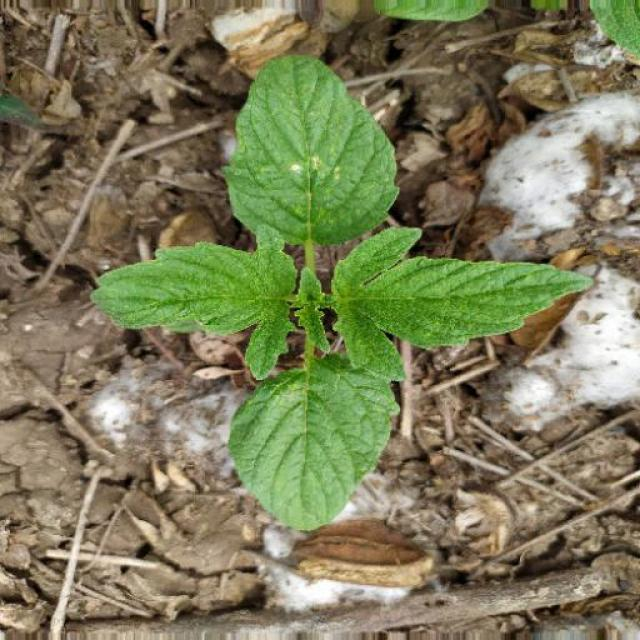crop: (80, 52, 592, 520)
